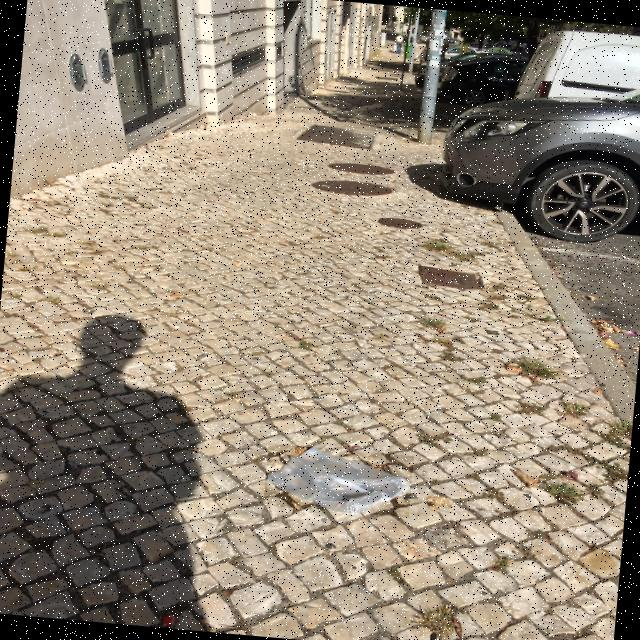Other plastic: (161, 614, 177, 626), (627, 330, 637, 336)
Plastic film: (266, 447, 411, 513)
